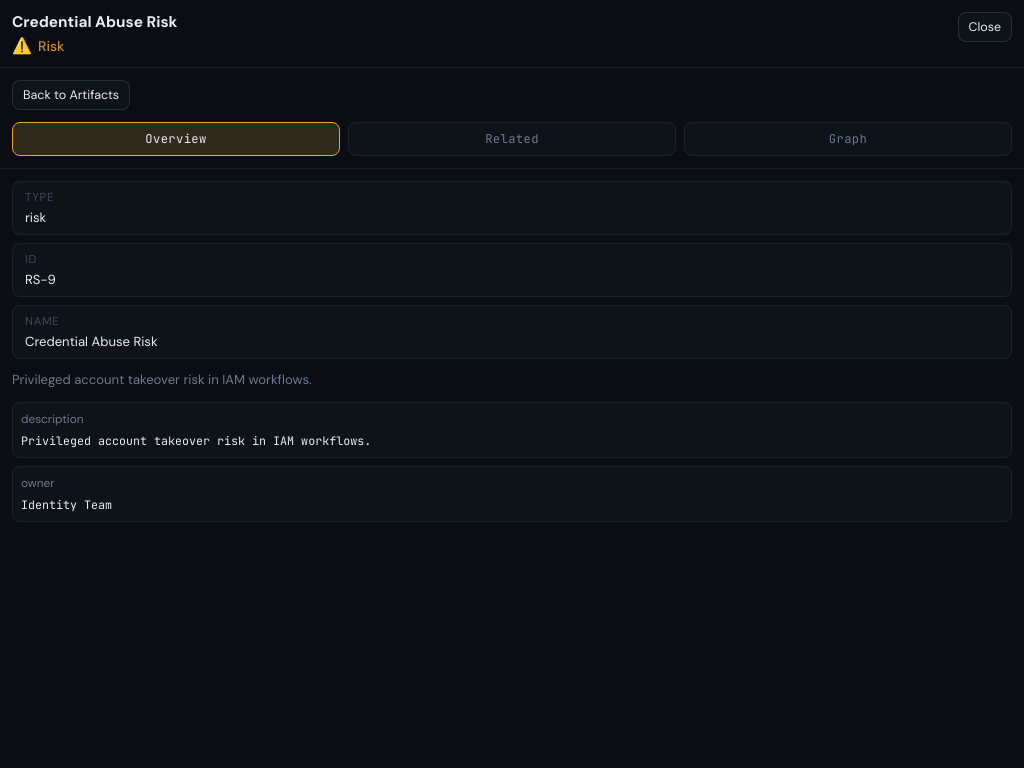
Test case: EntityDetailPanel › shows empty related state when no matching edges exist
Click the tab "Related".
click(512, 139)  # box x1=348 y1=122 x2=676 y2=156
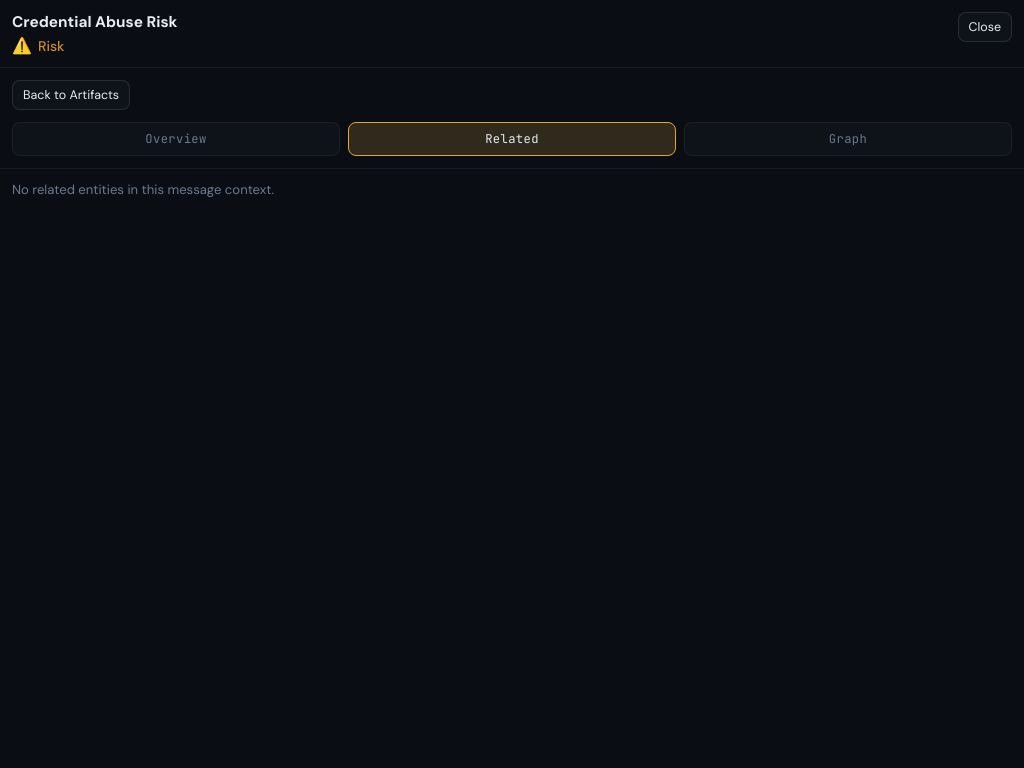
Expected: the text "No related entities in this message context." is shown, x1=12 y1=181 x2=274 y2=198
